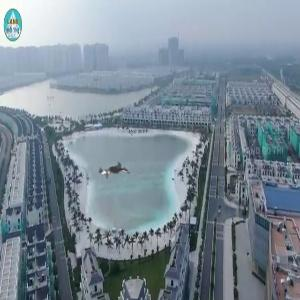drone: (52, 112, 168, 228)
